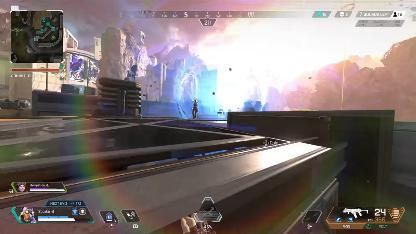Target: (191, 100, 199, 118)
